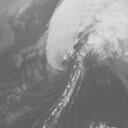cyclone: (45, 21, 96, 74)
